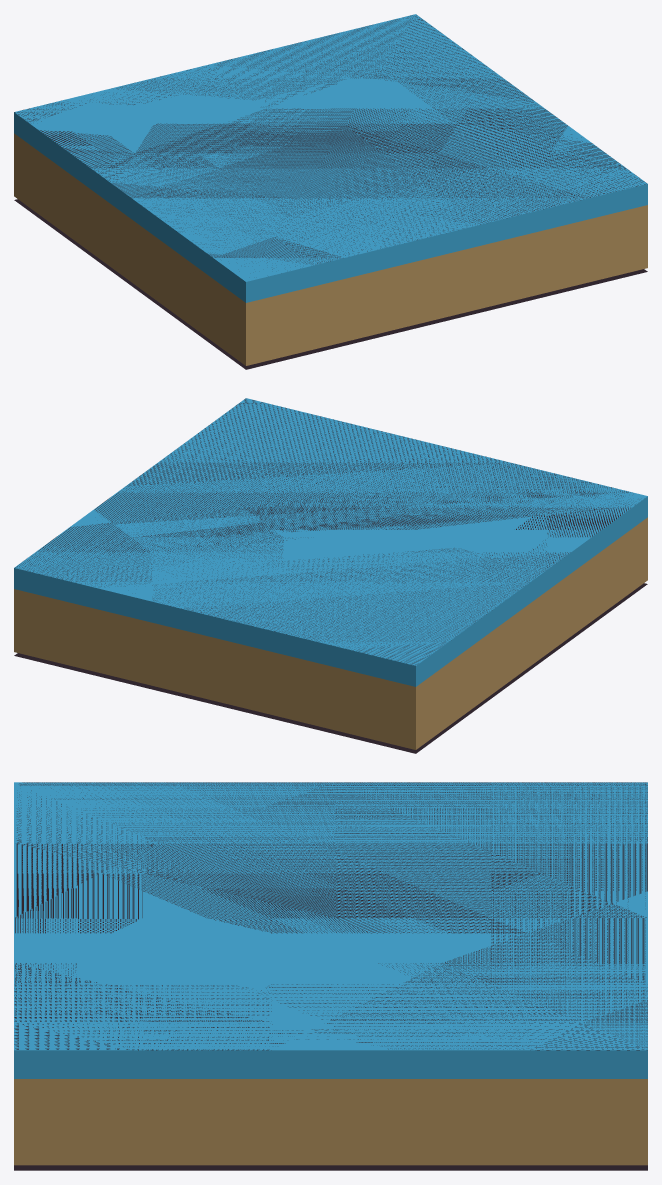
Rendered from SM_Island_Tile_Water.fbx.
The picture shows the model from 3 angles, top to bottom: view 1: azimuth 30°, elevation 25°; view 2: azimuth 150°, elevation 25°; view 3: azimuth 270°, elevation 25°; orthographic projection. The views are drawn at different scales.
Visible parts, largest first — view 1: SM_Island_Tile_Water, SM_Island_Tile_Water_Outline; view 2: SM_Island_Tile_Water, SM_Island_Tile_Water_Outline; view 3: SM_Island_Tile_Water, SM_Island_Tile_Water_Outline.
Part boxes in pixels (x1,y1,x2,y2): SM_Island_Tile_Water: (14,14,647,365); SM_Island_Tile_Water_Outline: (14,15,647,369); SM_Island_Tile_Water: (14,398,647,749); SM_Island_Tile_Water_Outline: (14,398,647,753); SM_Island_Tile_Water: (14,782,647,1165); SM_Island_Tile_Water_Outline: (14,782,647,1170).
Size of the model in its own units: 2 by 0.418 by 2.
2 materials, 1 textured.
